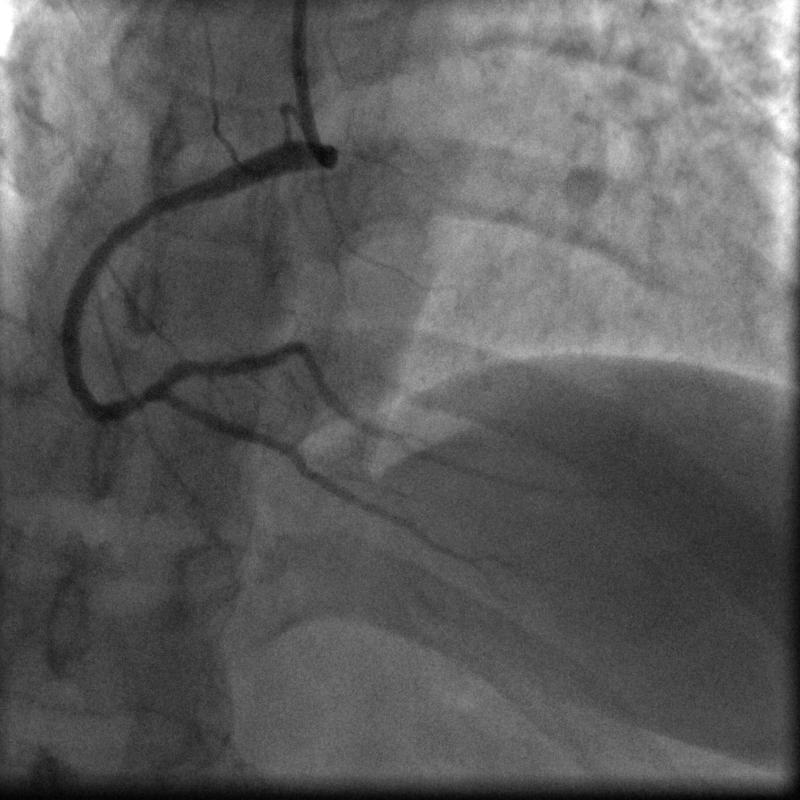Stenosis: (122, 389, 160, 414)
